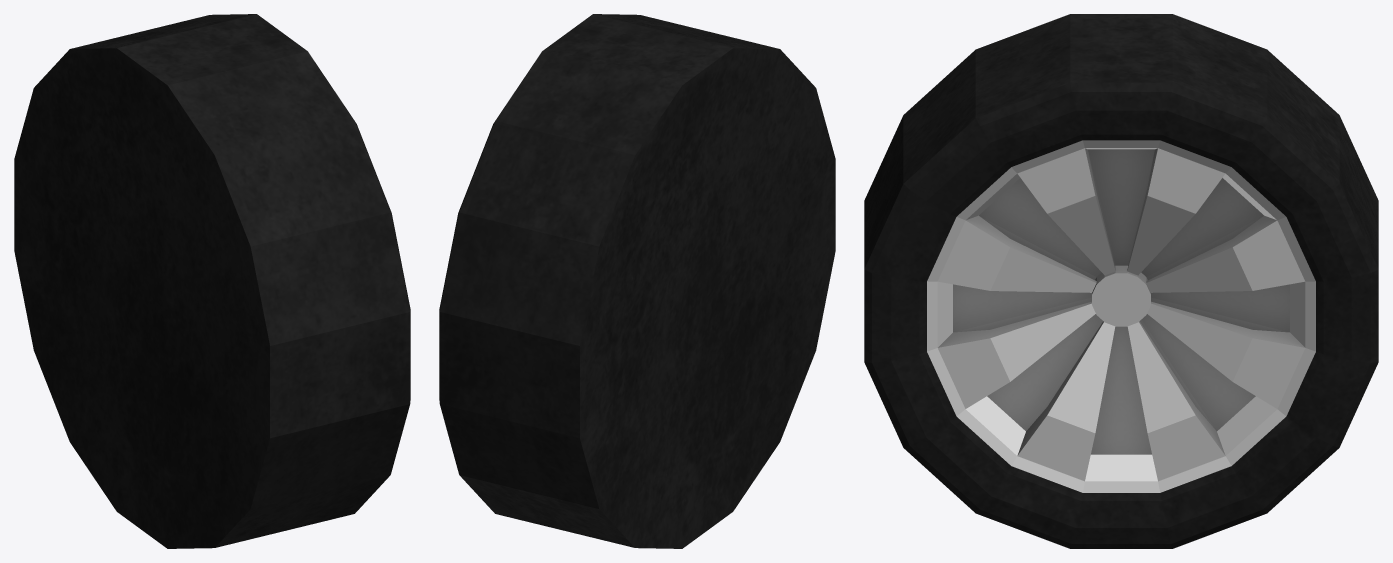
Rendered from WheelFL.obj.
3 renders of one model, left to right at view 1: azimuth 30°, elevation 25°; view 2: azimuth 150°, elevation 25°; view 3: azimuth 270°, elevation 25°, orthographic.
Parts seen in each view (by area): view 1: WheelFL; view 2: WheelFL; view 3: WheelFL.
Boxes of the visible parts, left/top/right/bottom form: WheelFL: left=14, top=14, right=410, bottom=548; WheelFL: left=439, top=14, right=835, bottom=548; WheelFL: left=864, top=14, right=1378, bottom=548.
Size of the model in its own units: 0.2086 by 0.6277 by 0.6277.
Materials: 1 (1 with a texture image).
